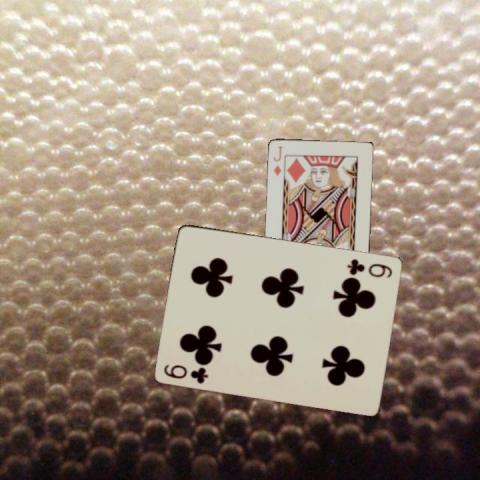6c: (345, 255, 394, 280), (161, 360, 210, 384)
Jd: (271, 143, 284, 177)
